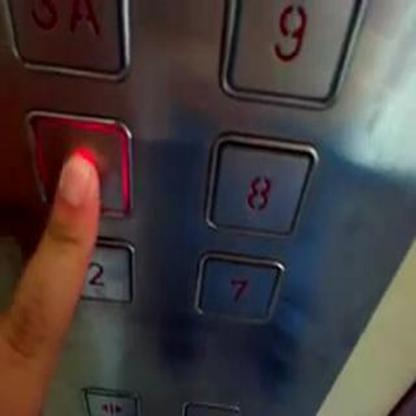2: (54, 236, 136, 306)
7: (193, 248, 285, 330)
8: (204, 130, 319, 241)
9: (214, 0, 368, 113)
open: (82, 388, 143, 415)
